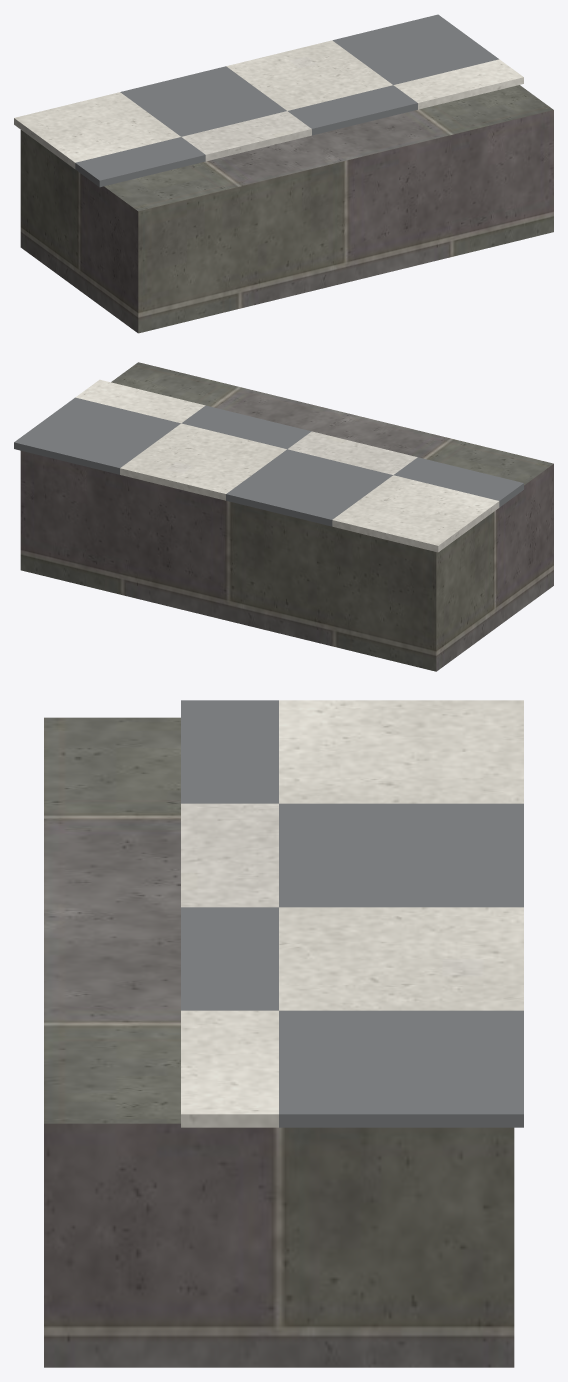
Rendered from floor_marble_g_half_e0001.glb.
3 views of the same model, one above another, from view 1: azimuth 30°, elevation 25°; view 2: azimuth 150°, elevation 25°; view 3: azimuth 270°, elevation 25° (orthographic). The views are drawn at different scales.
Visible parts, largest first — view 1: floor_marble_g_half_e0001_plinth, floor_marble_g_half_e0001_marble, floor_marble_g_half_e0001_slate; view 2: floor_marble_g_half_e0001_plinth, floor_marble_g_half_e0001_marble, floor_marble_g_half_e0001_slate; view 3: floor_marble_g_half_e0001_plinth, floor_marble_g_half_e0001_slate, floor_marble_g_half_e0001_marble.
Boxes of the visible parts, box(x1,y1,x2,y2) form: floor_marble_g_half_e0001_plinth: box(20, 85, 553, 333); floor_marble_g_half_e0001_marble: box(14, 40, 523, 168); floor_marble_g_half_e0001_slate: box(75, 14, 498, 187); floor_marble_g_half_e0001_plinth: box(20, 362, 553, 671); floor_marble_g_half_e0001_marble: box(75, 379, 499, 552); floor_marble_g_half_e0001_slate: box(14, 397, 523, 526); floor_marble_g_half_e0001_plinth: box(44, 717, 514, 1367); floor_marble_g_half_e0001_slate: box(181, 700, 523, 1127); floor_marble_g_half_e0001_marble: box(181, 700, 523, 1127).
Size of the model in its own units: 2 by 0.58 by 0.98.
3 materials, 2 textured.
